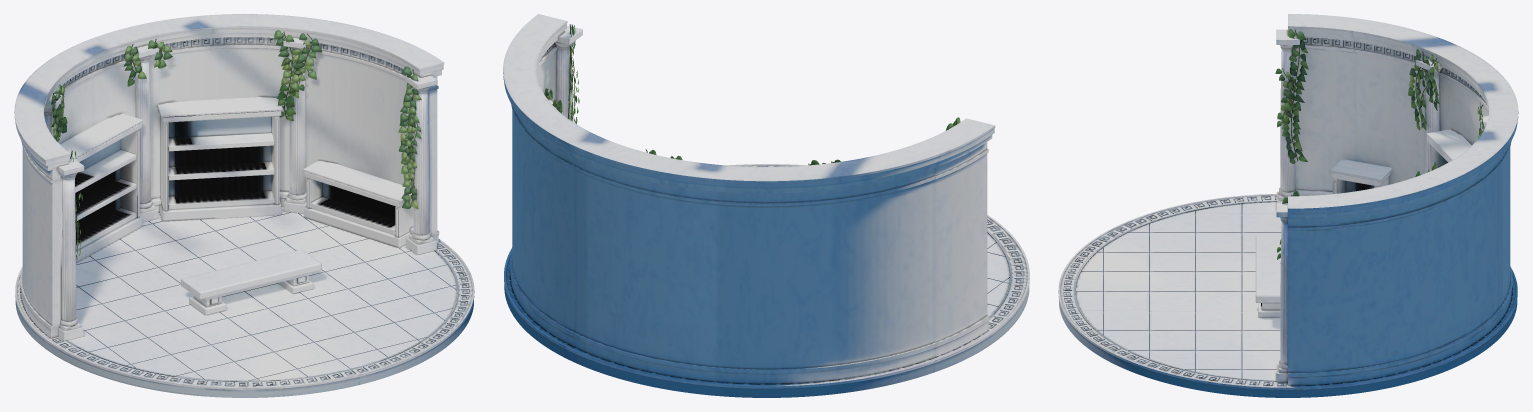
Rendered from library-marble-baked.glb.
The picture shows the model from 3 angles, left to right: view 1: azimuth 30°, elevation 25°; view 2: azimuth 150°, elevation 25°; view 3: azimuth 270°, elevation 25°; orthographic projection. The views are drawn at different scales.
Parts seen in each view (by area): view 1: Library_Baked_Scenery; view 2: Library_Baked_Scenery; view 3: Library_Baked_Scenery.
Part boxes in pixels (left/top/right/bottom): Library_Baked_Scenery: left=14, top=14, right=474, bottom=397; Library_Baked_Scenery: left=503, top=14, right=1029, bottom=397; Library_Baked_Scenery: left=1058, top=14, right=1518, bottom=397.
Size of the model in its own units: 12.36 by 5.66 by 12.34.
Materials: 1 (1 with a texture image).
